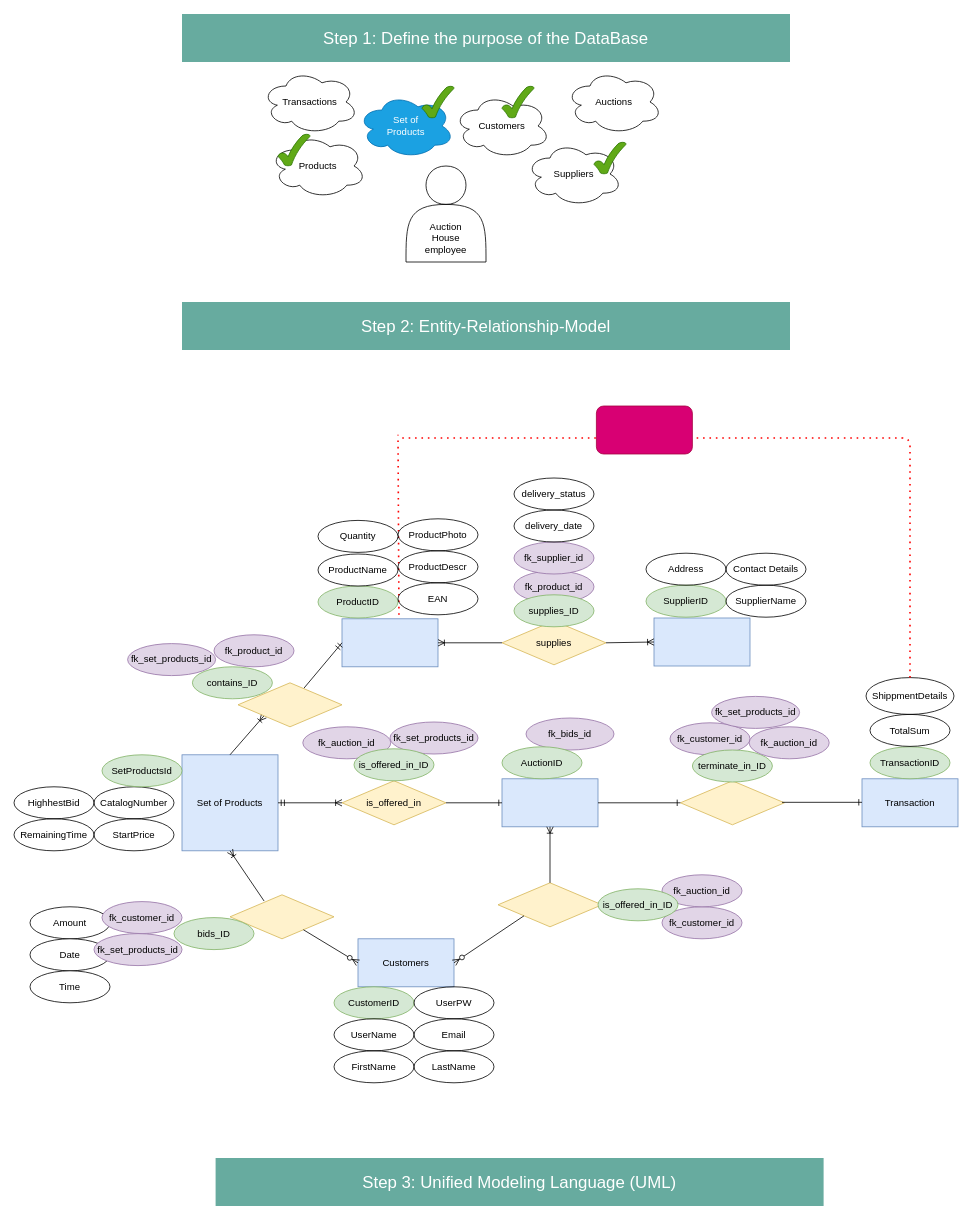
The diagram is 972 pixels wide and 1219 high, and some of its shapes have lost their labels. The shapes that lost their labels are listed below. From the top down, each one's centre as x and y in pixels, then its label:
the point at 644,429: add function later to update stock
the point at 389,642: Product
the point at 701,641: Supplier
the point at 289,704: contains
the point at 549,802: Auction
the point at 732,802: terminates_in
the point at 281,916: bids
the point at 549,904: takes_part
